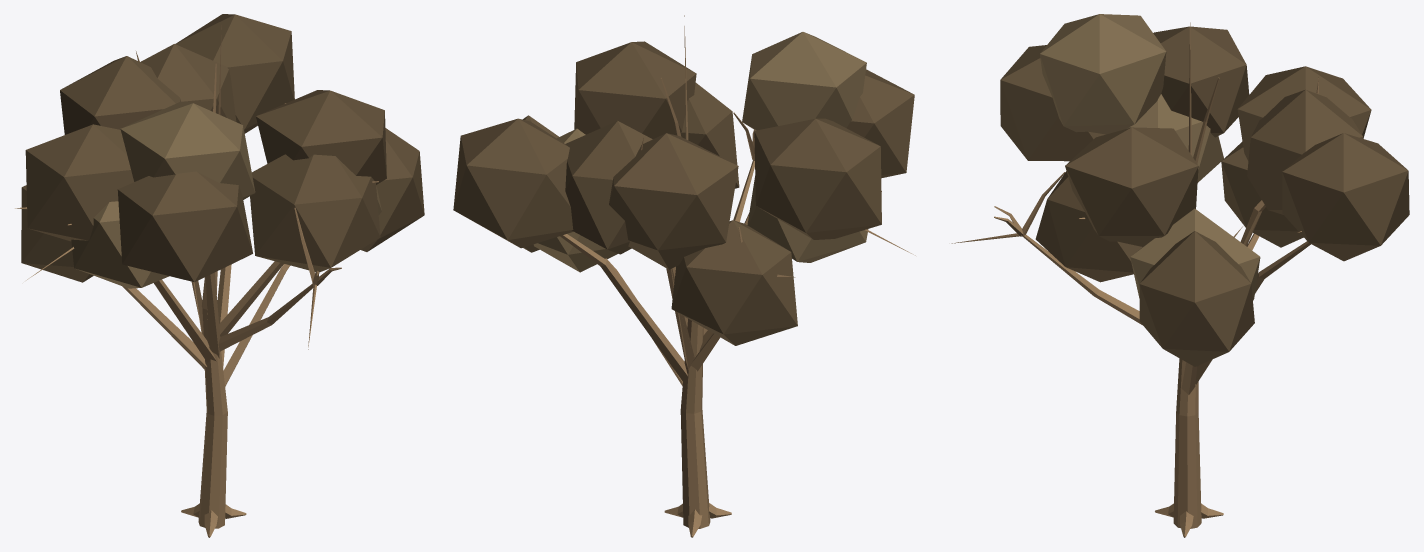
The model's file is oak_winter_01.glb.
3 views of the same model, side by side, from view 1: azimuth 30°, elevation 25°; view 2: azimuth 150°, elevation 25°; view 3: azimuth 270°, elevation 25° (orthographic). The views are drawn at different scales.
Parts seen in each view (by area): view 1: Oak_winter_01; view 2: Oak_winter_01; view 3: Oak_winter_01.
Part boxes in pixels (x1,y1,x2,y2): Oak_winter_01: (15, 14, 424, 537); Oak_winter_01: (453, 15, 915, 537); Oak_winter_01: (951, 14, 1409, 537).
Bounding box in the file's own units: 13.98 × 16.03 × 13.09.
